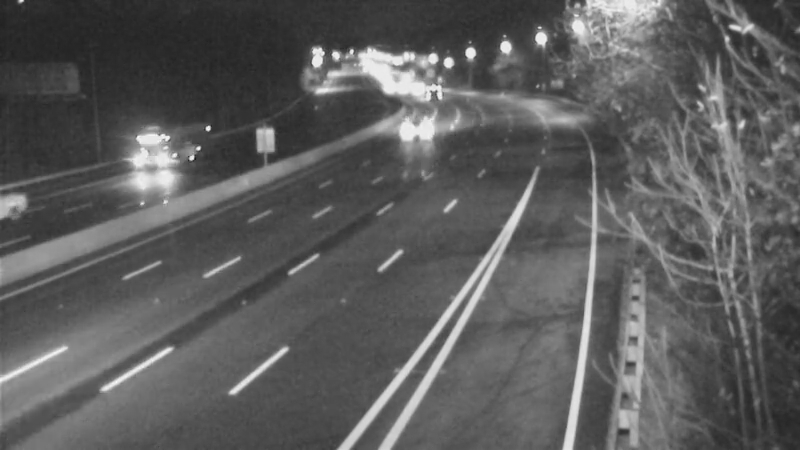vehicle: (117, 119, 197, 199), (1, 170, 65, 250), (413, 68, 463, 118), (398, 105, 448, 155)
